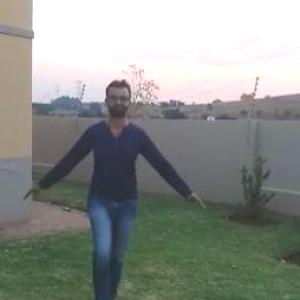land: (52, 90, 175, 299)
